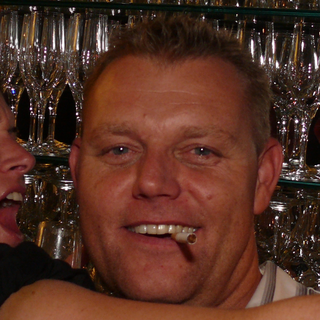eye: (181, 140, 225, 164), (98, 139, 141, 163)
